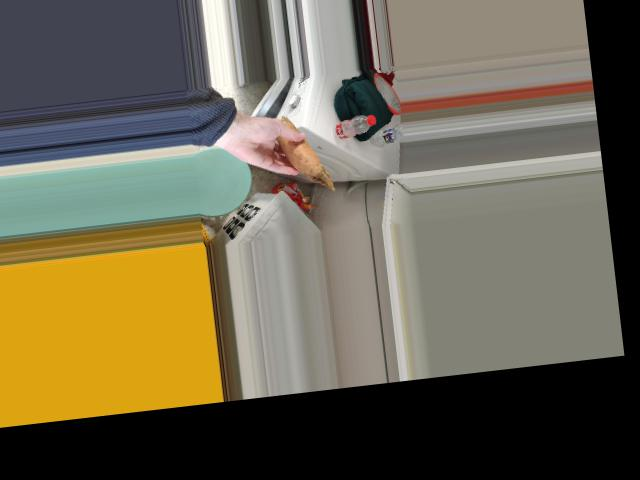sweet_potato: (277, 125, 320, 177)
